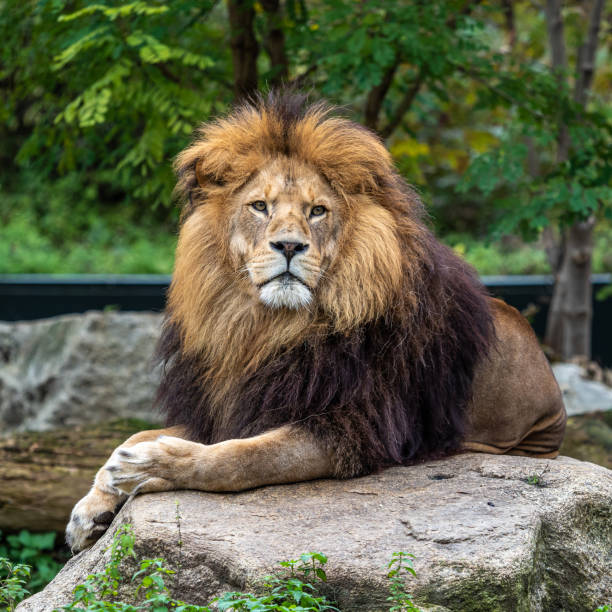lion: (133, 61, 487, 481)
